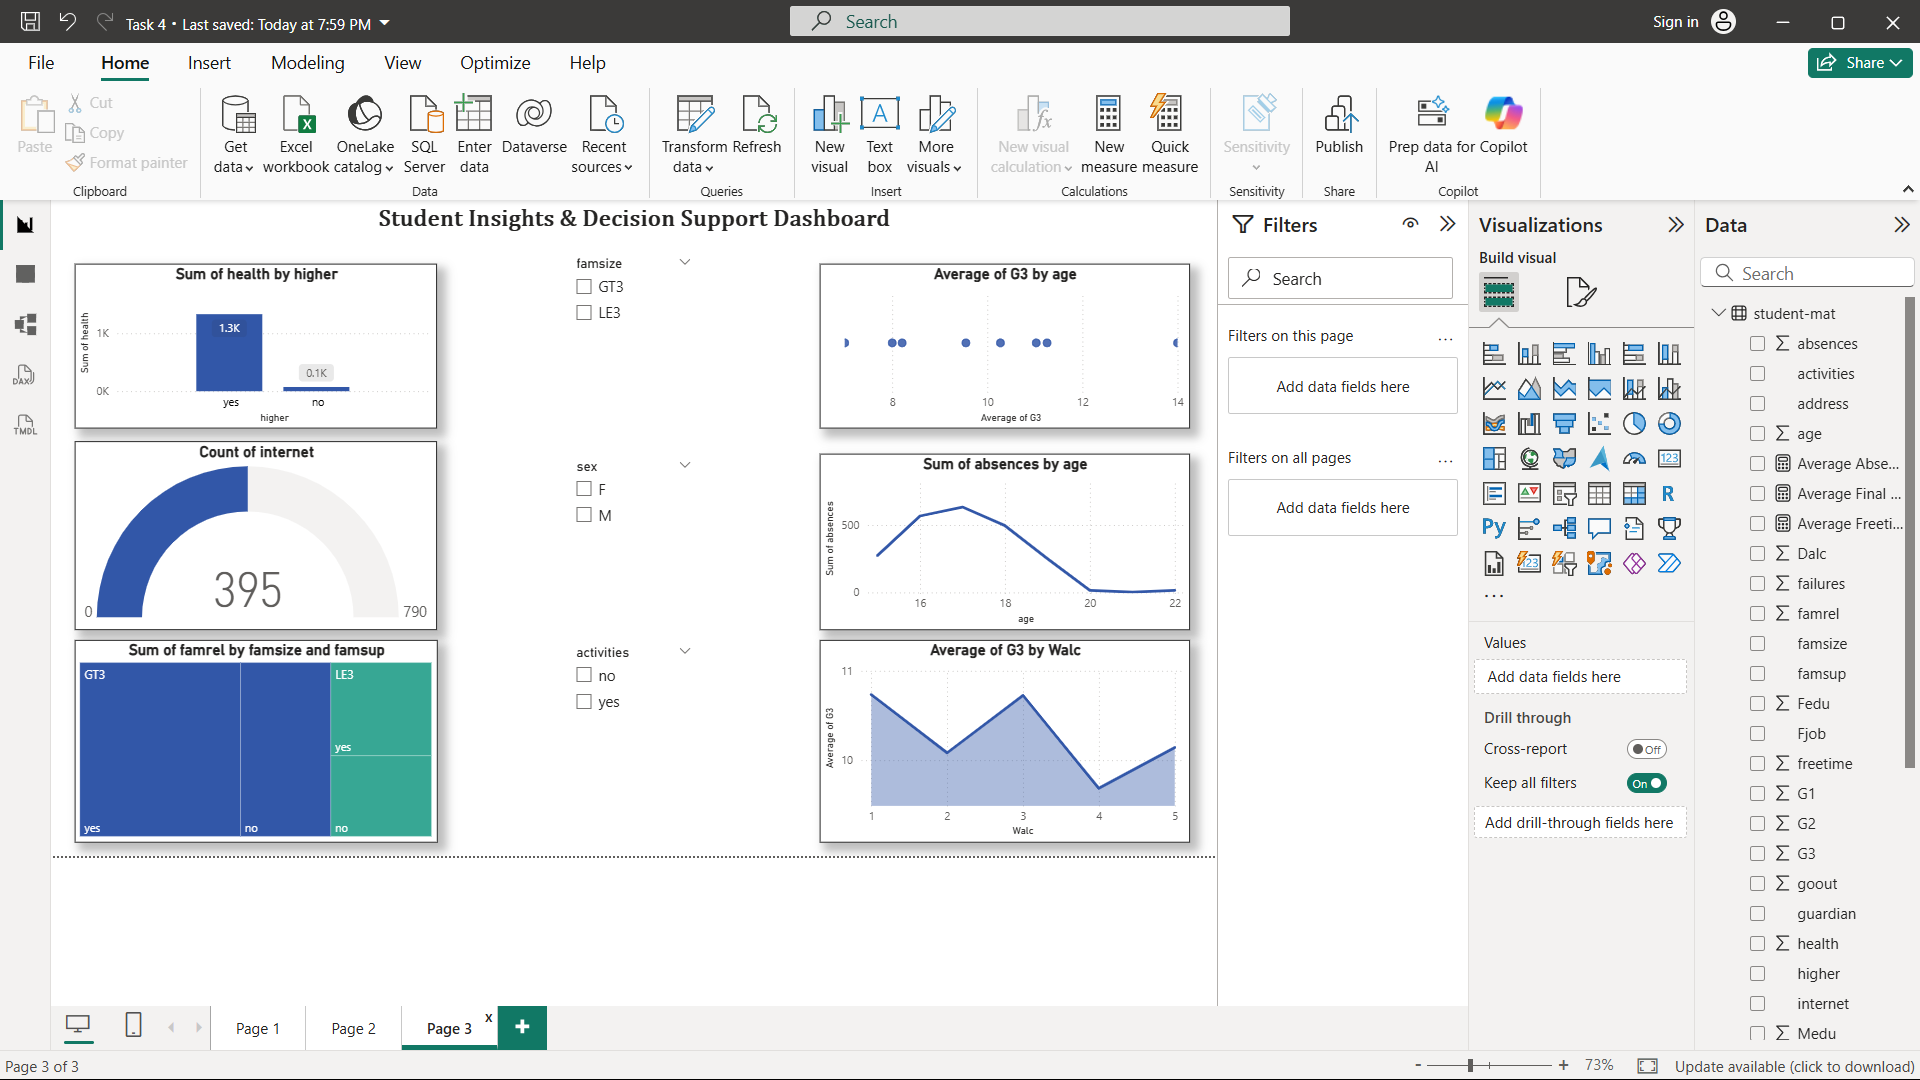

The page's visual inventory and layout, read from the dashboard file:
{"tool":"powerbi","page":{"name":"Page 3","canvas":[1280,720],"ordinal":2},"visuals":[{"type":"textbox","box":[0,0,1280.3,41.2],"z":0},{"type":"scatterChart","fields":{"Category":["student-mat.age"],"X":["Avg(student-mat.G3)"]},"box":[843.9,70,406.2,181.1],"z":1},{"type":"lineChart","fields":{"Category":["student-mat.age"],"Y":["Sum(student-mat.absences)"]},"box":[843.9,278.6,406.2,193.5],"z":2},{"type":"stackedAreaChart","fields":{"Category":["student-mat.Walc"],"Y":["Avg(student-mat.G3)"]},"box":[843.9,483,406.2,222.3],"z":3},{"type":"clusteredColumnChart","fields":{"Category":["student-mat.higher"],"Y":["Sum(student-mat.health)"]},"box":[26.1,70,397.9,181.1],"z":4},{"type":"gauge","fields":{"Y":["CountNonNull(student-mat.internet)"]},"box":[26.1,264.8,397.9,207.2],"z":5},{"type":"treemap","fields":{"Group":["student-mat.famsize"],"Details":["student-mat.famsup"],"Values":["Sum(student-mat.famrel)"]},"box":[26,483,398,222],"z":6},{"type":"slicer","fields":{"Values":["student-mat.famsize"]},"box":[564,56.3,150.9,208.6],"z":7},{"type":"slicer","fields":{"Values":["student-mat.sex"]},"box":[564,279,151,193],"z":8},{"type":"slicer","fields":{"Values":["student-mat.activities"]},"box":[564,483,151,222],"z":9}]}

Visuals, with their boxes on the page's 1280x720 design canvas (x1, y1, x2, y2). These are canvas units, not pixel positions in the 1920x1080 screenshot, which may show the page scaled, cropped or inside an application window:
textbox: x1=0, y1=0, x2=1280, y2=41
scatterChart - student-mat.age x Avg(student-mat.G3): x1=844, y1=70, x2=1250, y2=251
lineChart - student-mat.age x Sum(student-mat.absences): x1=844, y1=279, x2=1250, y2=472
stackedAreaChart - student-mat.Walc x Avg(student-mat.G3): x1=844, y1=483, x2=1250, y2=705
clusteredColumnChart - student-mat.higher x Sum(student-mat.health): x1=26, y1=70, x2=424, y2=251
gauge - CountNonNull(student-mat.internet): x1=26, y1=265, x2=424, y2=472
treemap - student-mat.famsize x student-mat.famsup: x1=26, y1=483, x2=424, y2=705
slicer - student-mat.famsize: x1=564, y1=56, x2=715, y2=265
slicer - student-mat.sex: x1=564, y1=279, x2=715, y2=472
slicer - student-mat.activities: x1=564, y1=483, x2=715, y2=705
